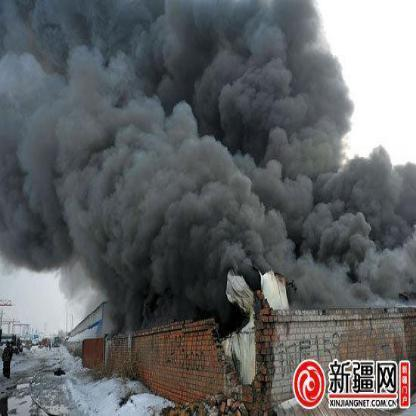smoke: (2, 2, 306, 237), (314, 166, 410, 280), (101, 240, 217, 302), (310, 58, 338, 160)
